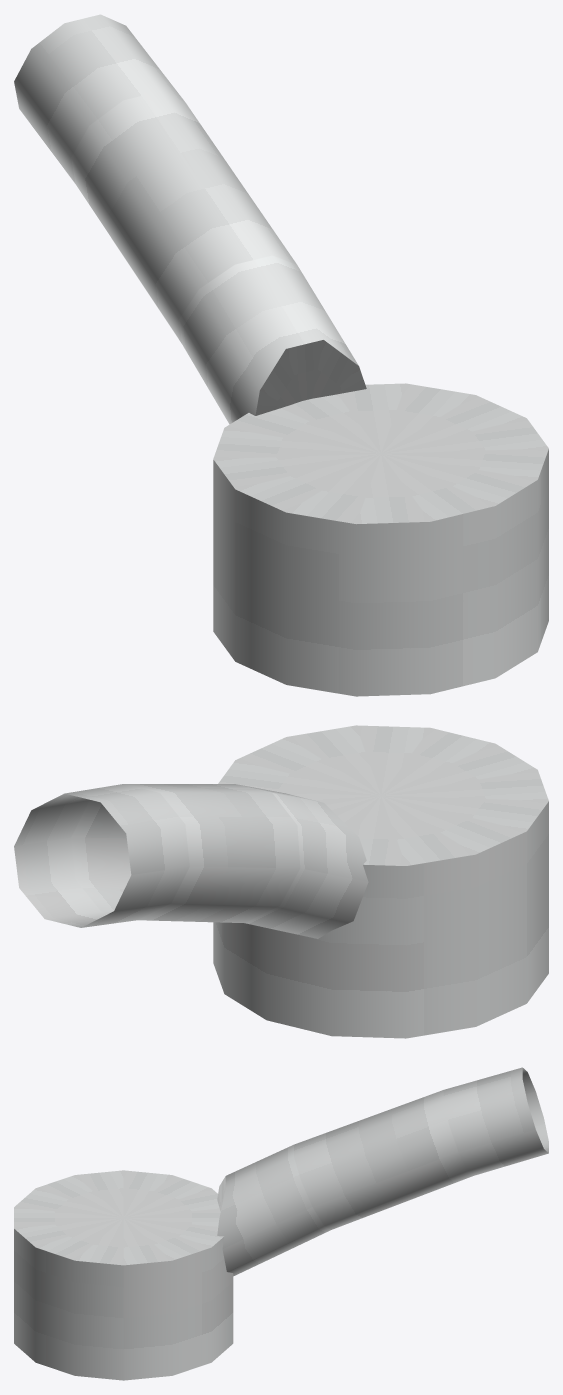
File: nycsignalarm_regular8_c1.obj
3 renders of one model, top to bottom at view 1: azimuth 30°, elevation 25°; view 2: azimuth 150°, elevation 25°; view 3: azimuth 270°, elevation 25°, orthographic. The views are drawn at different scales.
Visible parts, largest first — view 1: nycsignalarm_regular8_c1; view 2: nycsignalarm_regular8_c1; view 3: nycsignalarm_regular8_c1.
Boxes of the visible parts, <box> form: nycsignalarm_regular8_c1: <box>14,14,548,696</box>; nycsignalarm_regular8_c1: <box>14,725,548,1038</box>; nycsignalarm_regular8_c1: <box>14,1067,548,1380</box>.
Size of the model in its own units: 0.8188 by 1.04 by 1.95.
